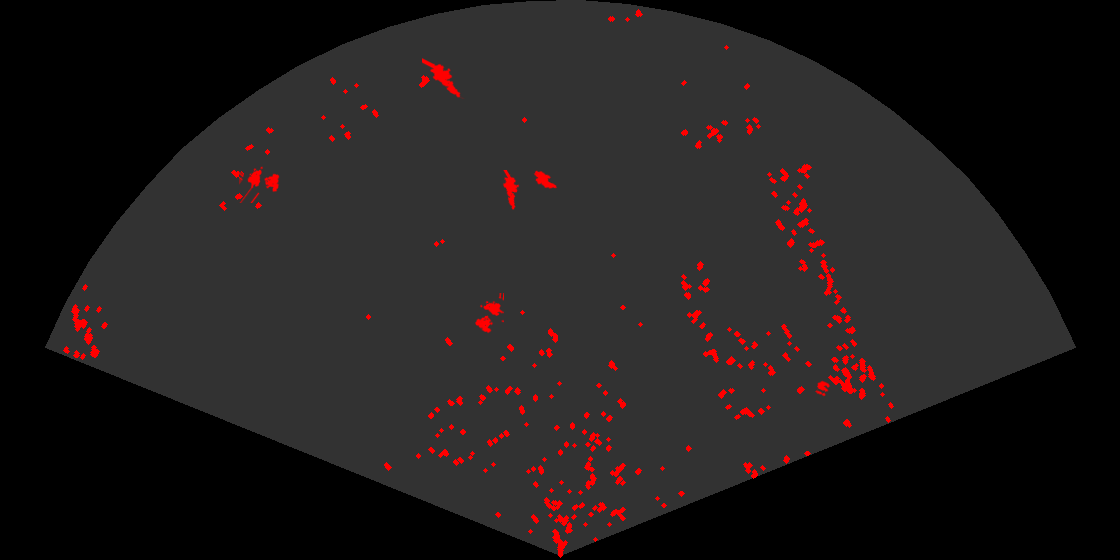AUV: (532, 169, 559, 190)
ball: (814, 379, 832, 398)
cage: (239, 165, 281, 203), (474, 293, 504, 335)
frogman: (422, 57, 466, 99), (501, 170, 521, 210)
